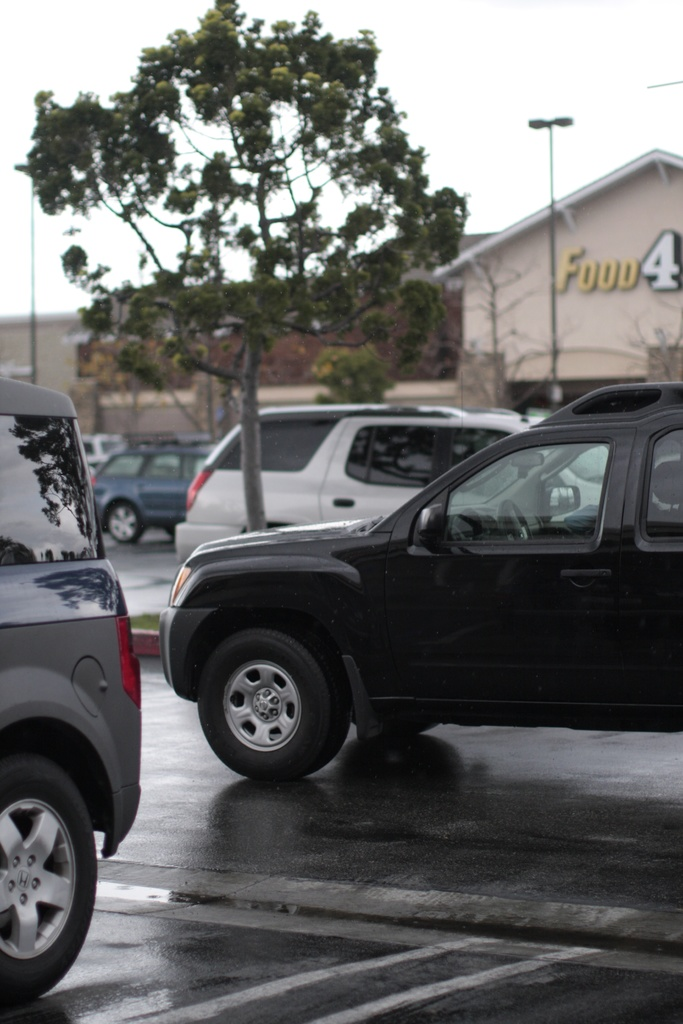Tree: (0, 0, 470, 558), (465, 273, 590, 434), (632, 257, 682, 364)
